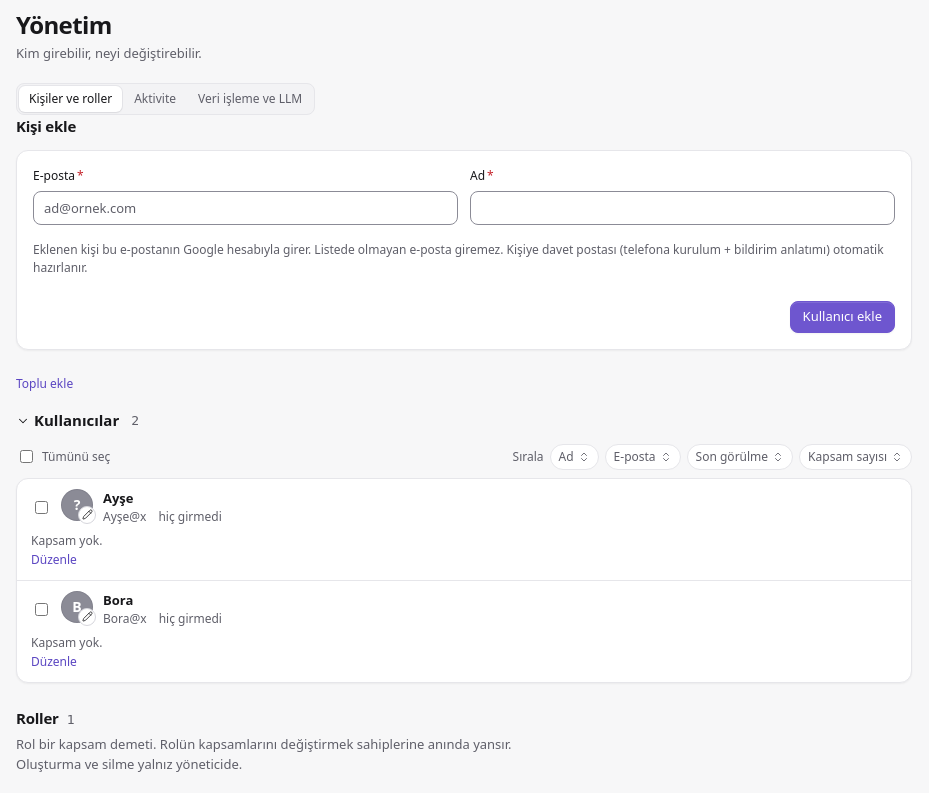
Scenario: bildirim ozeti gorunur, secilince toplu islem cubugu cikar
The width and height of the screenshot is (929, 793).
Click the checkbox named "Bora seç".
click(42, 610)  # box [35,603,48,616]
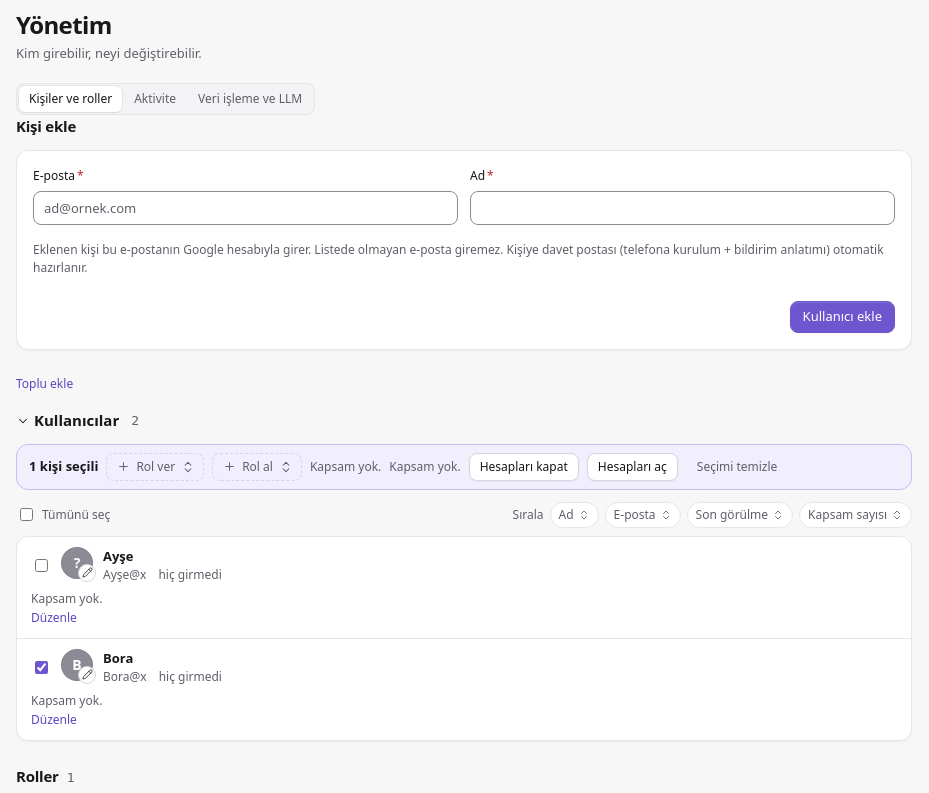
Result: the element named "Toplu işlemler" is shown at [16,444,912,490]
Result: the text "1 kişi seçili" is shown at [29,457,98,476]
